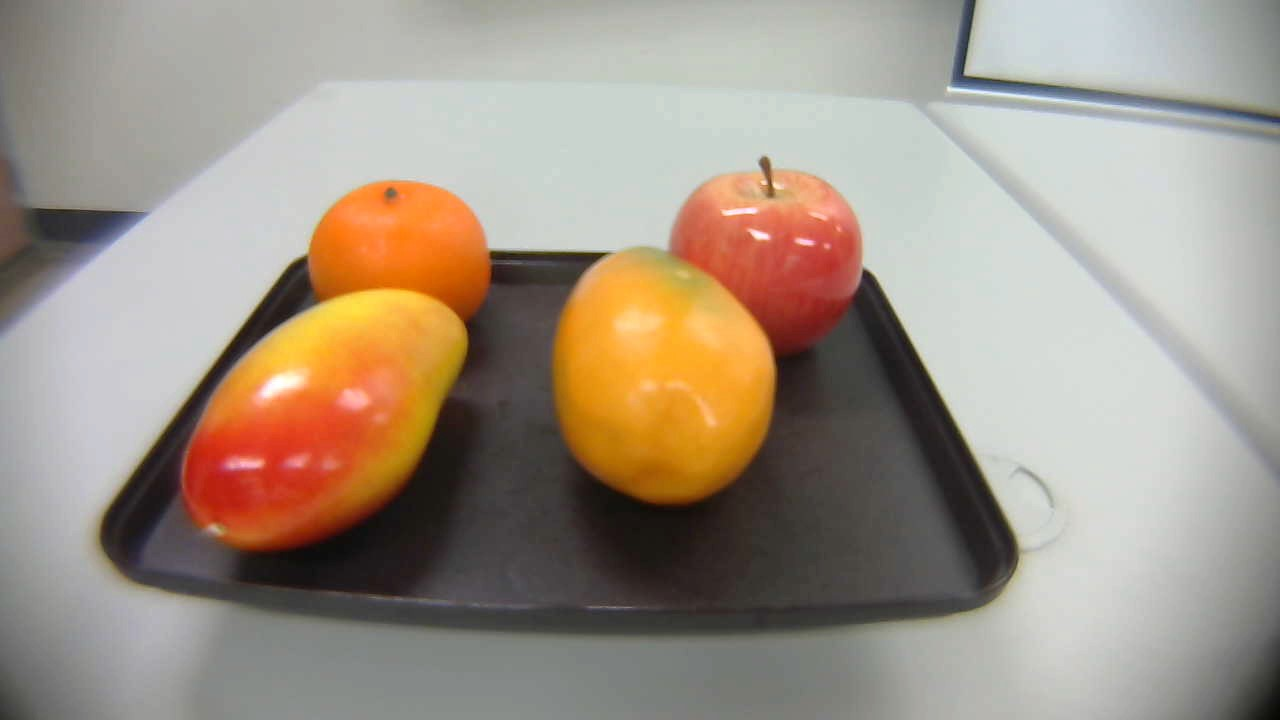orange: (302, 174, 495, 343)
papya: (550, 234, 778, 521)
red apple: (650, 156, 878, 359)
red mango: (180, 289, 483, 559)
